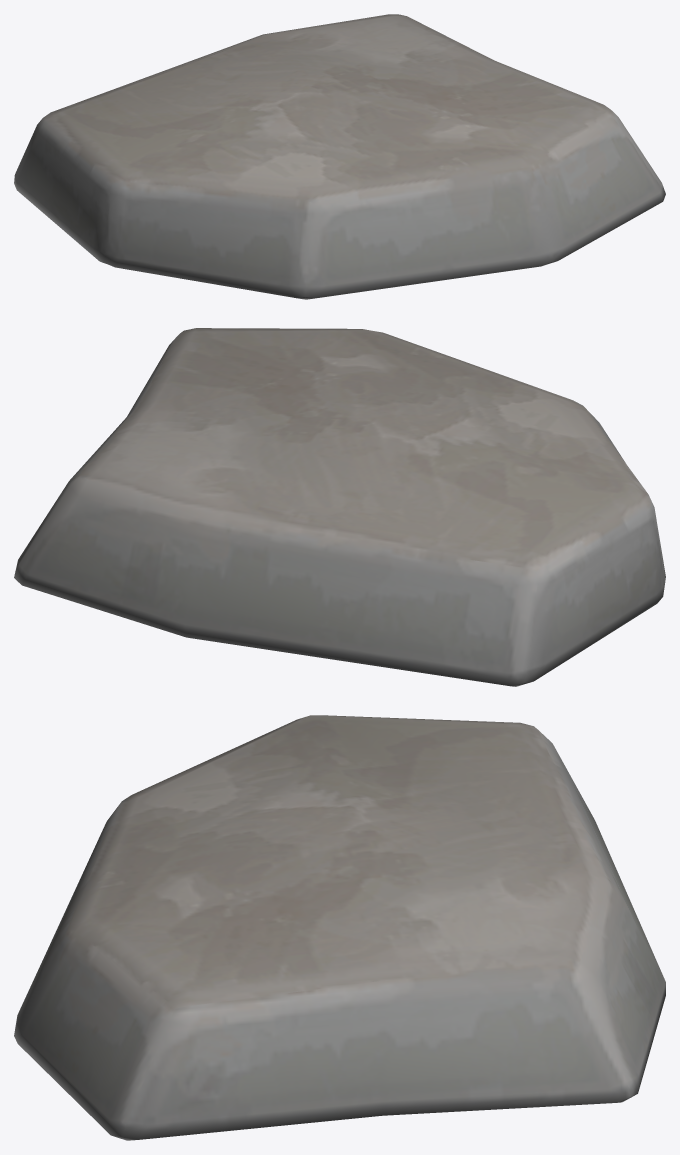
The model's file is NormalRocks4V2.fbx.
3 renders of one model, top to bottom at view 1: azimuth 30°, elevation 25°; view 2: azimuth 150°, elevation 25°; view 3: azimuth 270°, elevation 25°, orthographic. The views are drawn at different scales.
Parts seen in each view (by area): view 1: NormalRocks4V2; view 2: NormalRocks4V2; view 3: NormalRocks4V2.
Part boxes in pixels (x1,y1,x2,y2): NormalRocks4V2: (14, 14, 665, 299); NormalRocks4V2: (14, 328, 665, 686); NormalRocks4V2: (14, 715, 665, 1140).
Bounding box in the file's own units: 0.8356 × 0.177 × 0.7125.
